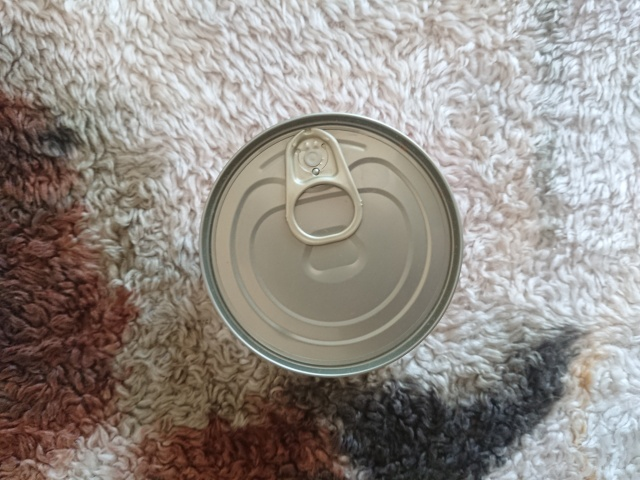Gavrilovic Pork Liver Pate 100g: (194, 108, 466, 381)
